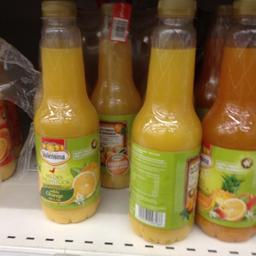juice: (128, 0, 201, 243), (32, 0, 99, 224), (196, 0, 252, 241)
